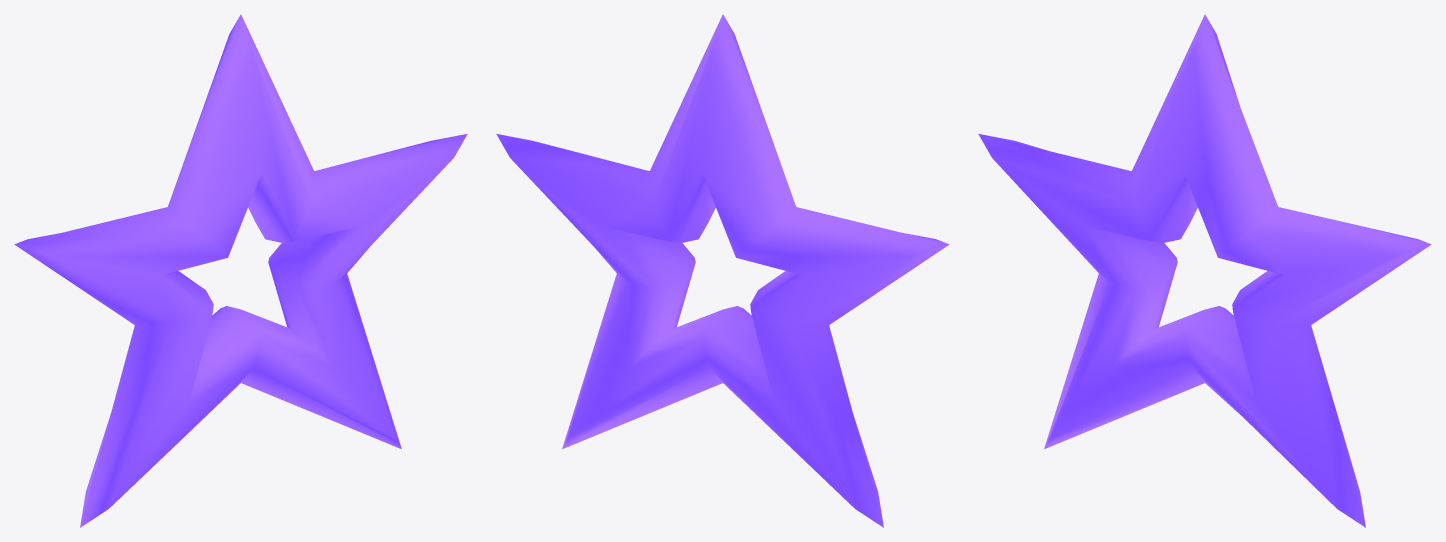
File: tähti.fbx
3 renders of one model, left to right at view 1: azimuth 30°, elevation 25°; view 2: azimuth 150°, elevation 25°; view 3: azimuth 330°, elevation 25°, orthographic.
Visible parts, largest first — view 1: Plane; view 2: Plane; view 3: Plane.
Boxes of the visible parts, x1,y1,x2,y2 form: Plane: [14, 14, 467, 527]; Plane: [496, 14, 949, 527]; Plane: [978, 14, 1431, 527].
Size of the model in its own units: 35.16 by 35.16 by 5.56.
